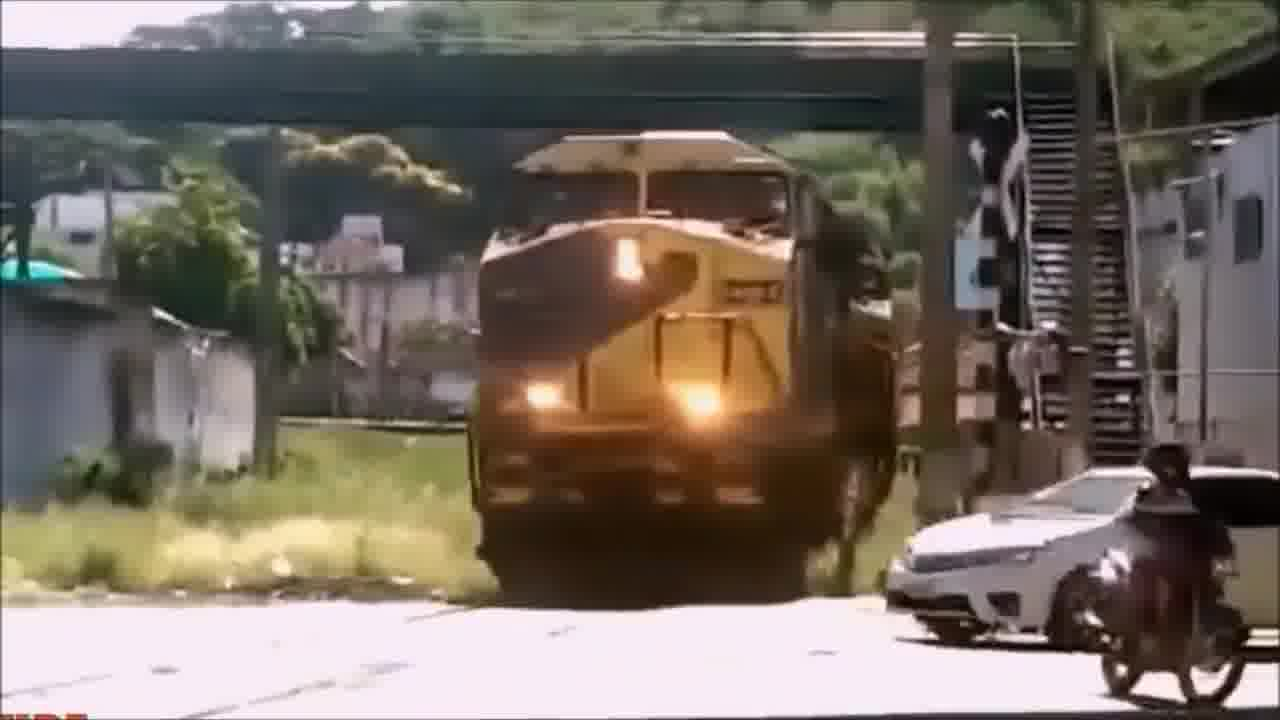crossing railway track: (886, 457, 1279, 672)
